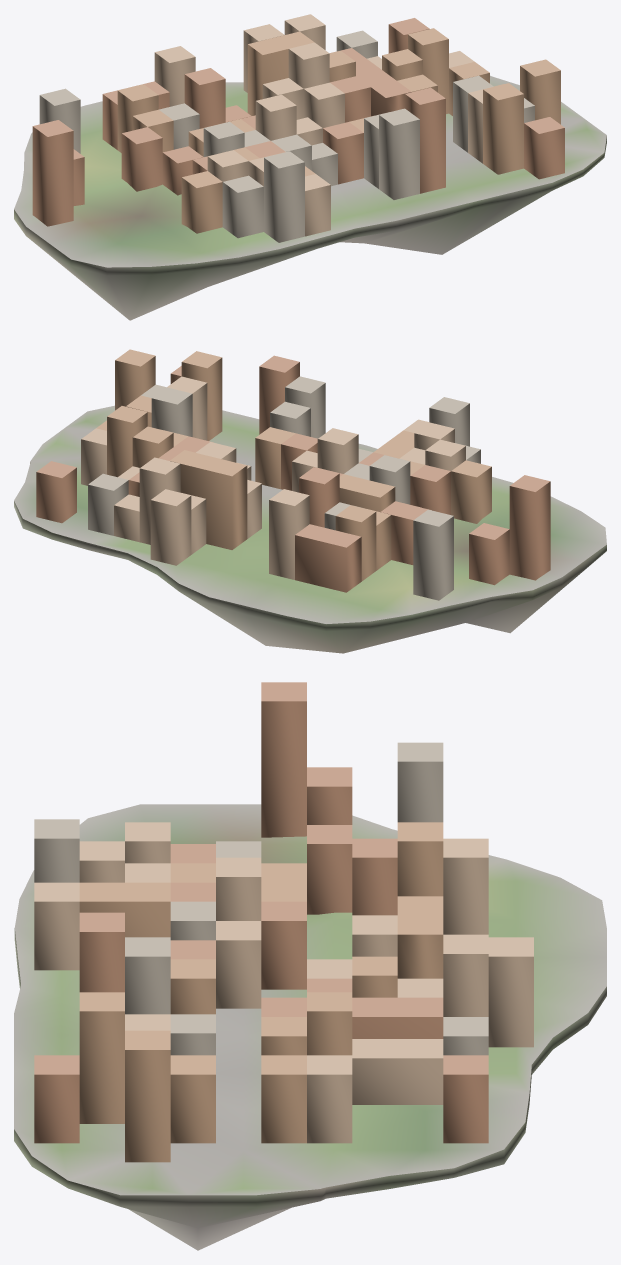
Rendered from SKY-092.lod1.glb.
3 renders of one model, top to bottom at view 1: azimuth 30°, elevation 25°; view 2: azimuth 150°, elevation 25°; view 3: azimuth 270°, elevation 25°, orthographic. The views are drawn at different scales.
Visible parts, largest first — view 1: warren_hull, deck, rock; view 2: warren_hull, deck, rock; view 3: warren_hull, deck, rock.
Boxes of the visible parts, bbox=[...] form: warren_hull: bbox=[32, 14, 564, 242]; deck: bbox=[14, 75, 606, 267]; rock: bbox=[14, 136, 606, 320]; warren_hull: bbox=[36, 349, 550, 600]; deck: bbox=[14, 405, 606, 623]; rock: bbox=[14, 462, 606, 653]; warren_hull: bbox=[34, 682, 533, 1162]; deck: bbox=[14, 804, 606, 1195]; rock: bbox=[14, 928, 606, 1250].
Bounding box in the file's own units: 122 × 42.65 × 78.29.
